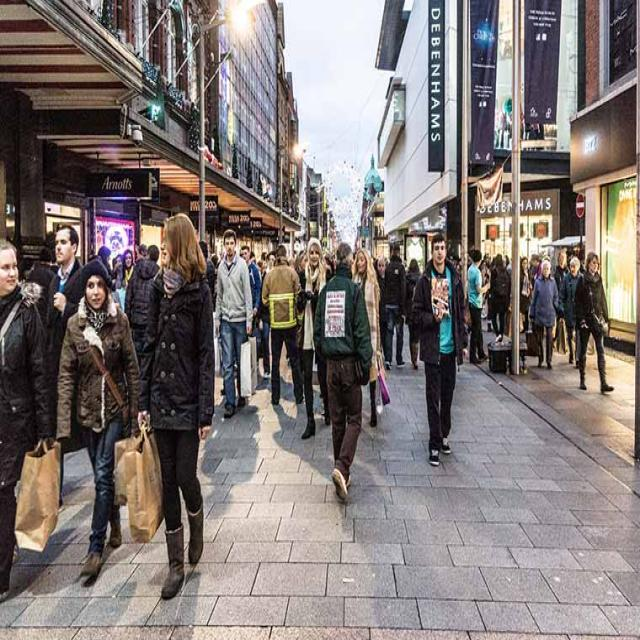Street Light: (195, 9, 258, 400), (270, 145, 305, 351)
